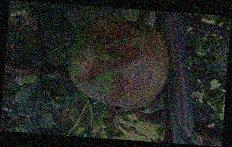rotten apple: (70, 15, 169, 110)
